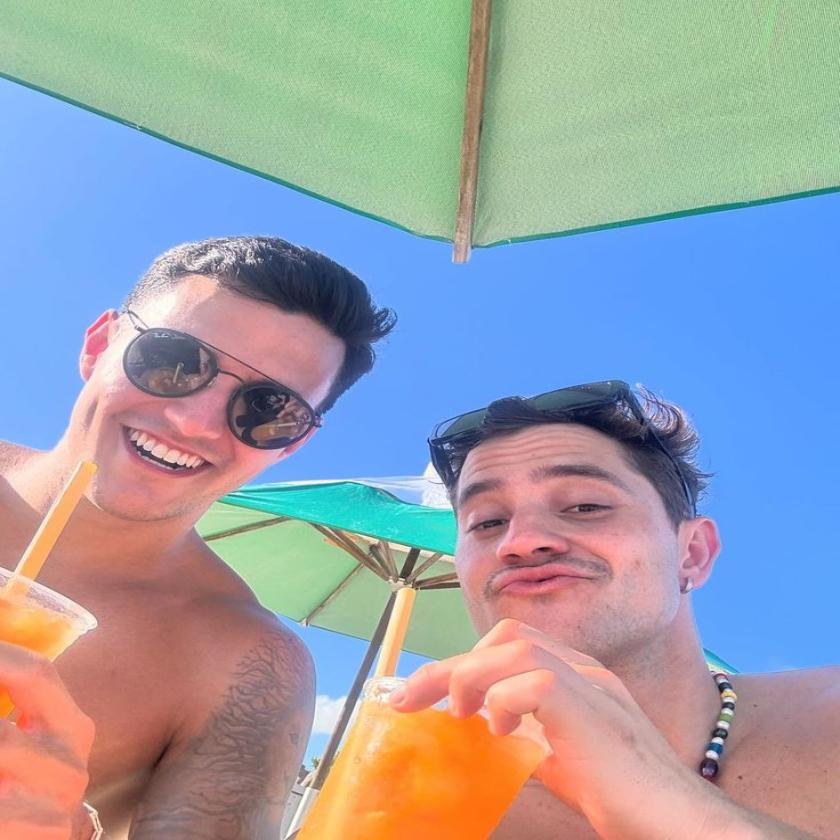Sin_casco: (60, 226, 393, 550), (432, 381, 719, 689)
